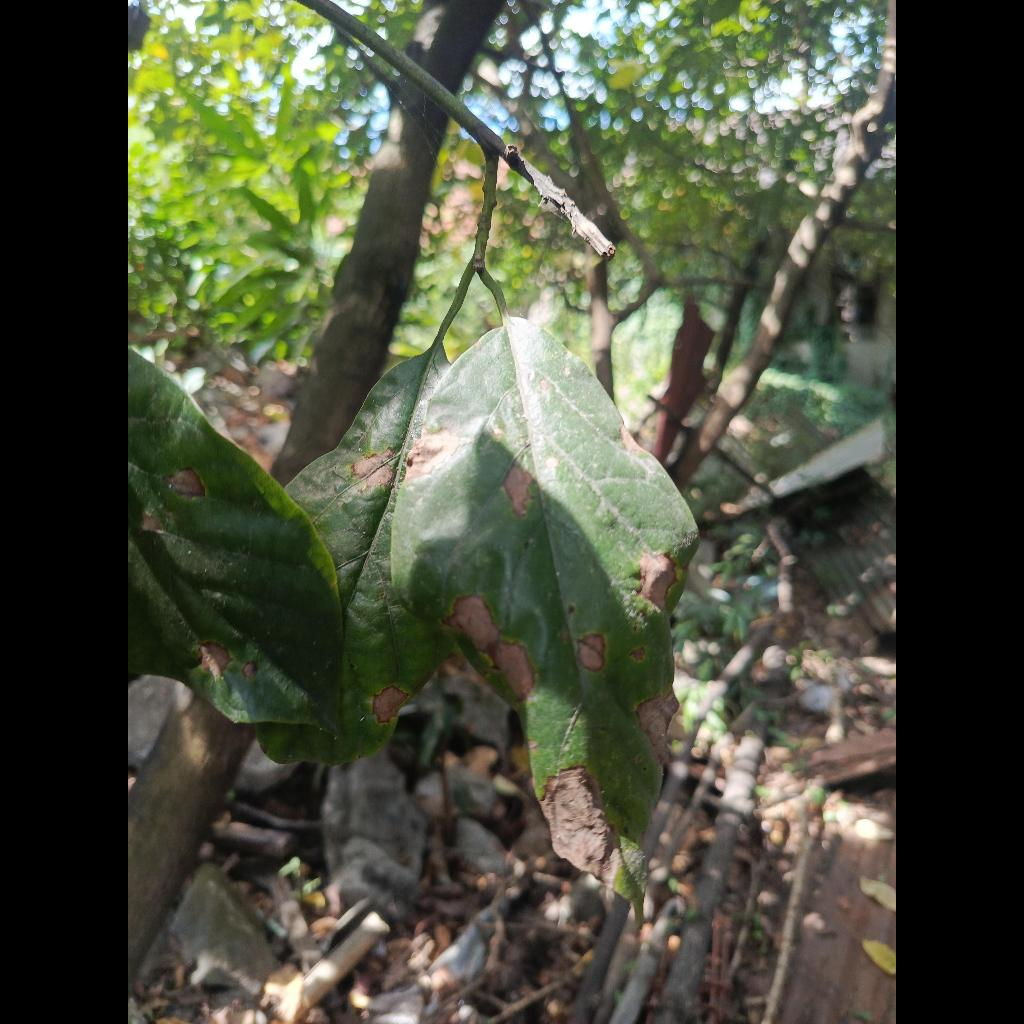antracnosis_hoja: (392, 318, 697, 901)
